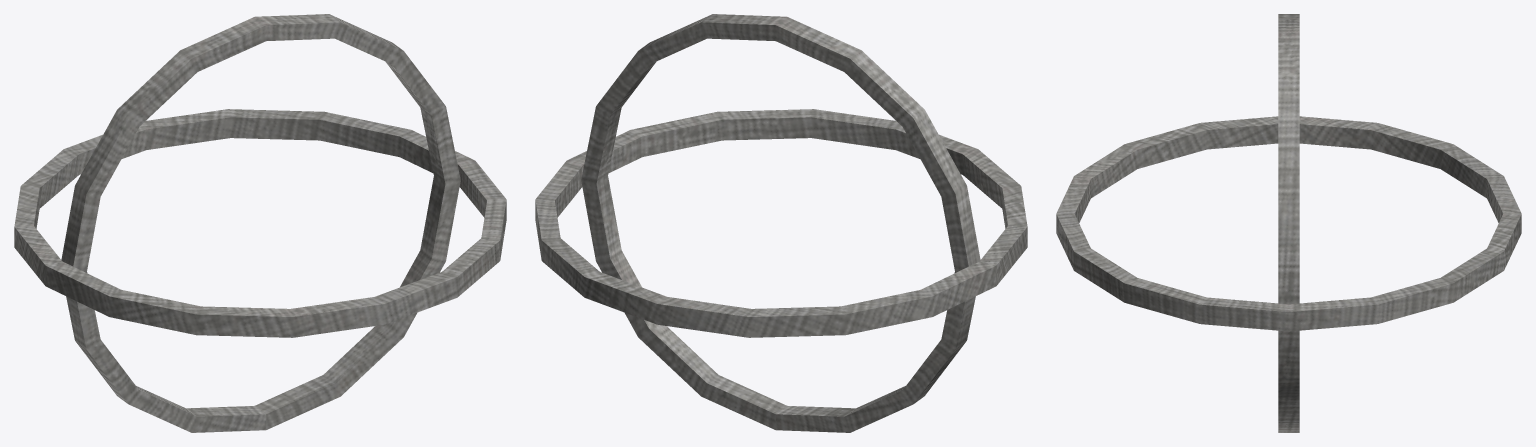
The model's file is Rele.FBX.
3 views of the same model, side by side, from view 1: azimuth 30°, elevation 25°; view 2: azimuth 150°, elevation 25°; view 3: azimuth 270°, elevation 25° (orthographic). The views are drawn at different scales.
Parts seen in each view (by area): view 1: Rele_ext, Rele_int; view 2: Rele_ext, Rele_int; view 3: Rele_ext, Rele_int.
Boxes of the visible parts, x1,y1,x2,y2 form: Rele_ext: (14, 109, 506, 337); Rele_int: (61, 14, 460, 432); Rele_ext: (535, 109, 1027, 337); Rele_int: (581, 14, 980, 432); Rele_ext: (1056, 116, 1521, 331); Rele_int: (1278, 14, 1299, 432).
Size of the model in its own units: 540 by 486 by 540.
